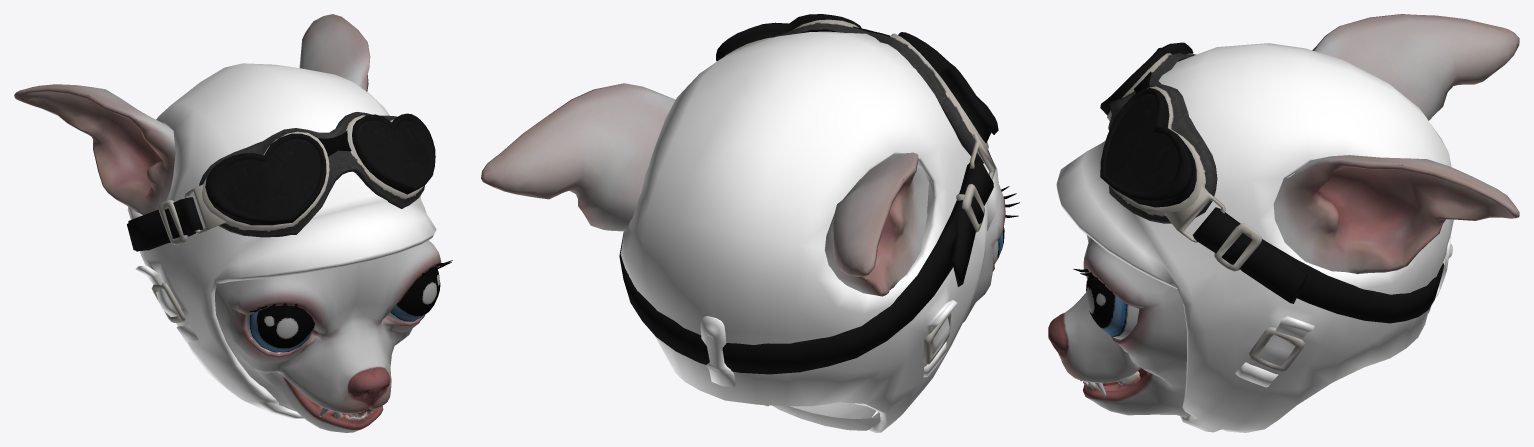
Rendered from SurvivorMale_Head_Mask_Chihuahua_LOD0.glb.
The picture shows the model from 3 angles, left to right: view 1: azimuth 30°, elevation 25°; view 2: azimuth 150°, elevation 25°; view 3: azimuth 270°, elevation 25°; orthographic projection. The views are drawn at different scales.
Visible parts, largest first — view 1: Hoodie; view 2: Hoodie; view 3: Hoodie.
Part boxes in pixels (bbox=[...]): Hoodie: bbox=[14, 14, 452, 432]; Hoodie: bbox=[481, 14, 1019, 432]; Hoodie: bbox=[1048, 14, 1519, 432].
Size of the model in its own units: 0.2824 by 0.2715 by 0.3146.
Materials: 1 (1 with a texture image).
